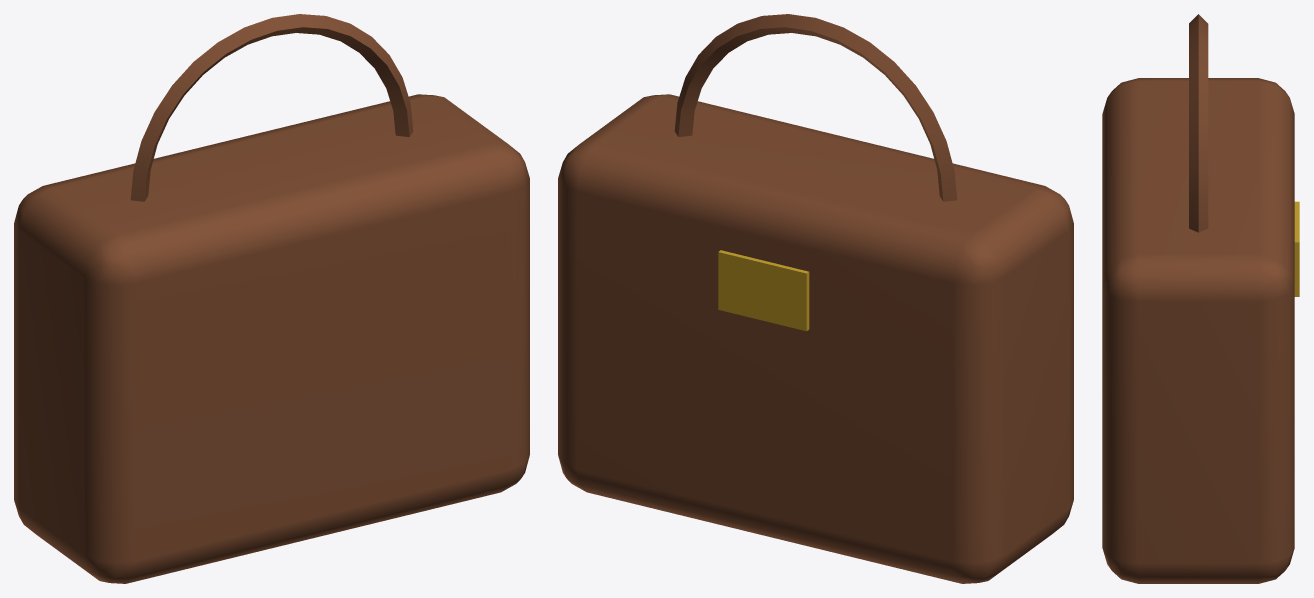
Rendered from prop_bag_floor.glb.
The picture shows the model from 3 angles, left to right: view 1: azimuth 30°, elevation 25°; view 2: azimuth 150°, elevation 25°; view 3: azimuth 270°, elevation 25°; orthographic projection. The views are drawn at different scales.
Visible parts, largest first — view 1: Bag; view 2: Bag; view 3: Bag.
Boxes of the visible parts, x1,y1,x2,y2 form: Bag: (14, 14, 529, 583); Bag: (558, 14, 1073, 583); Bag: (1102, 14, 1299, 583).
Size of what is drawn, in the model's own units: 0.4 by 0.428 by 0.164.
